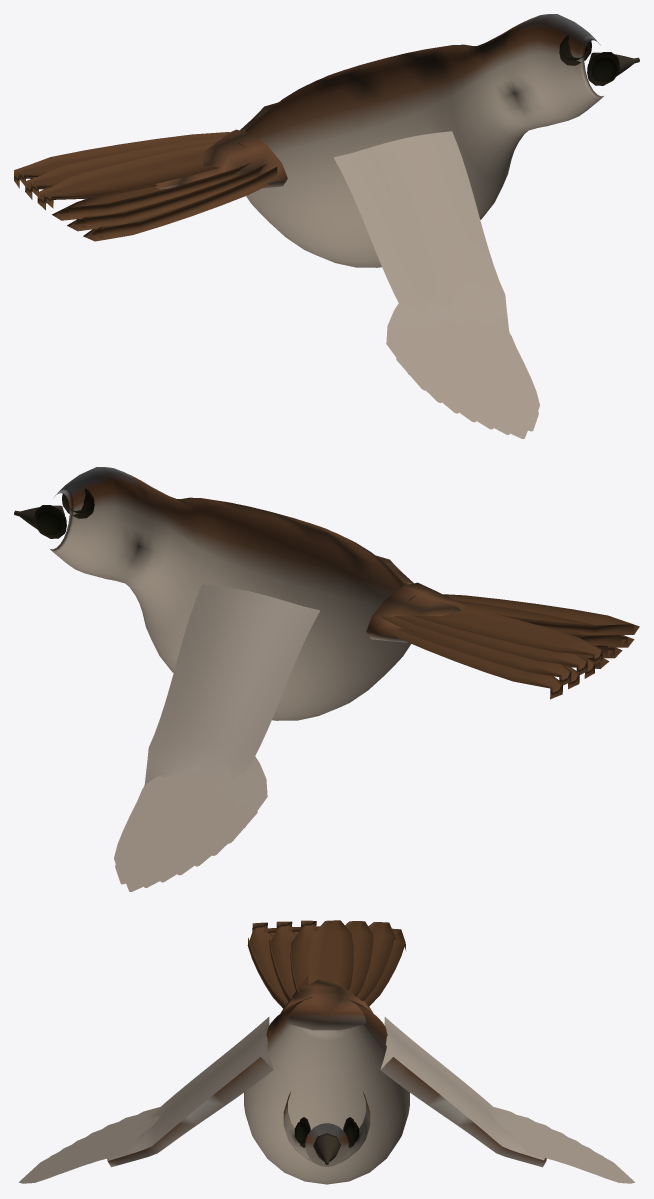
The model's file is SM_Bird_sparrow_flap2.glb.
The picture shows the model from 3 angles, top to bottom: view 1: azimuth 30°, elevation 25°; view 2: azimuth 150°, elevation 25°; view 3: azimuth 270°, elevation 25°; orthographic projection. The views are drawn at different scales.
Visible parts, largest first — view 1: SM_Bird_sparrow_flap2; view 2: SM_Bird_sparrow_flap2; view 3: SM_Bird_sparrow_flap2.
Part boxes in pixels (bbox=[...]): SM_Bird_sparrow_flap2: bbox=[14, 14, 639, 438]; SM_Bird_sparrow_flap2: bbox=[14, 467, 639, 891]; SM_Bird_sparrow_flap2: bbox=[19, 920, 634, 1184].
Size of the model in its own units: 0.1703 by 0.0646 by 0.1894.
